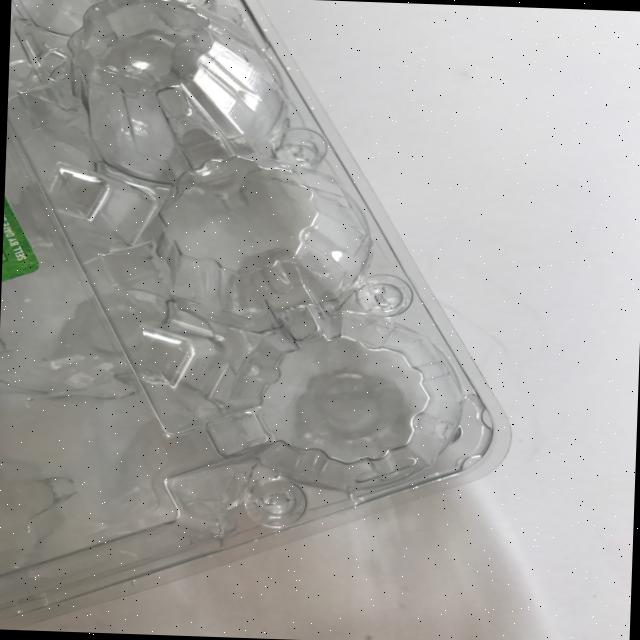plastic: (0, 0, 525, 639)
